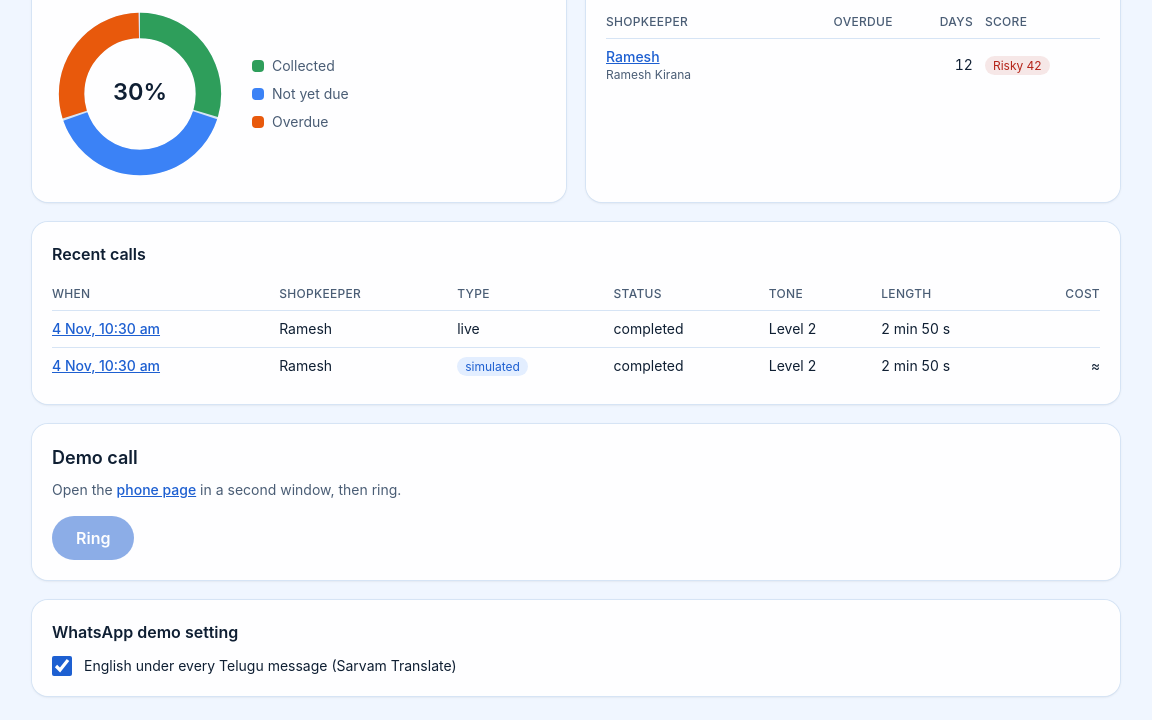
Test: DashboardPage › switches English under Telugu off and on
This screenshot has width=1152, height=720.
(page scrolled)
Click the checkbox labelled "English under every Telugu message (Sarvam Translate)": [62, 666] box 52,656 -> 72,676
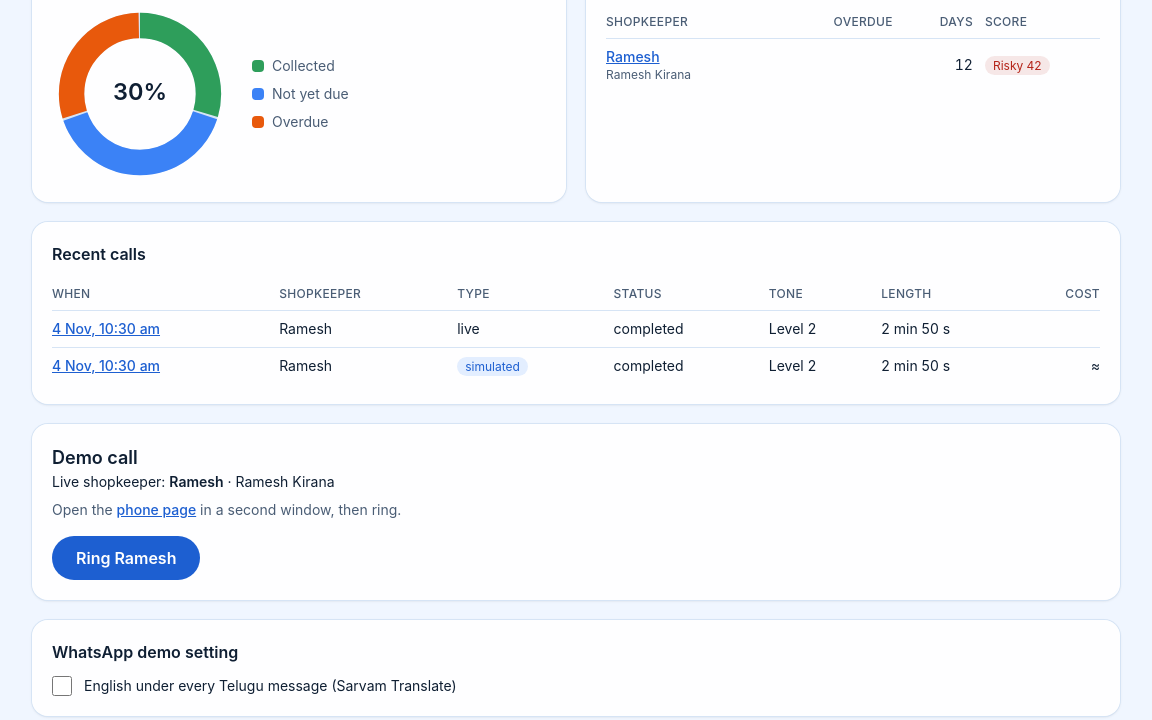
Check: the checkbox labelled "English under every Telugu message (Sarvam Translate)" is not checked, box 52,676 -> 72,696
